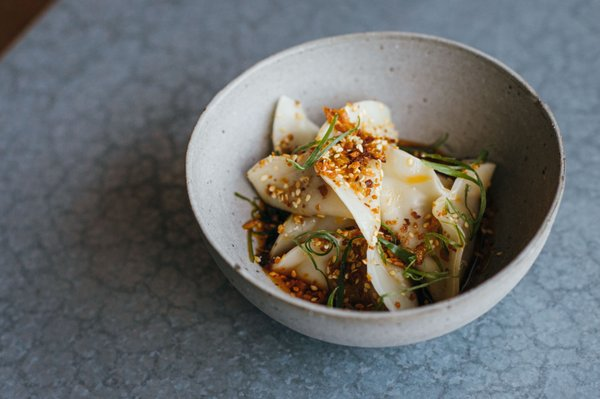sushi: (184, 28, 582, 351)
